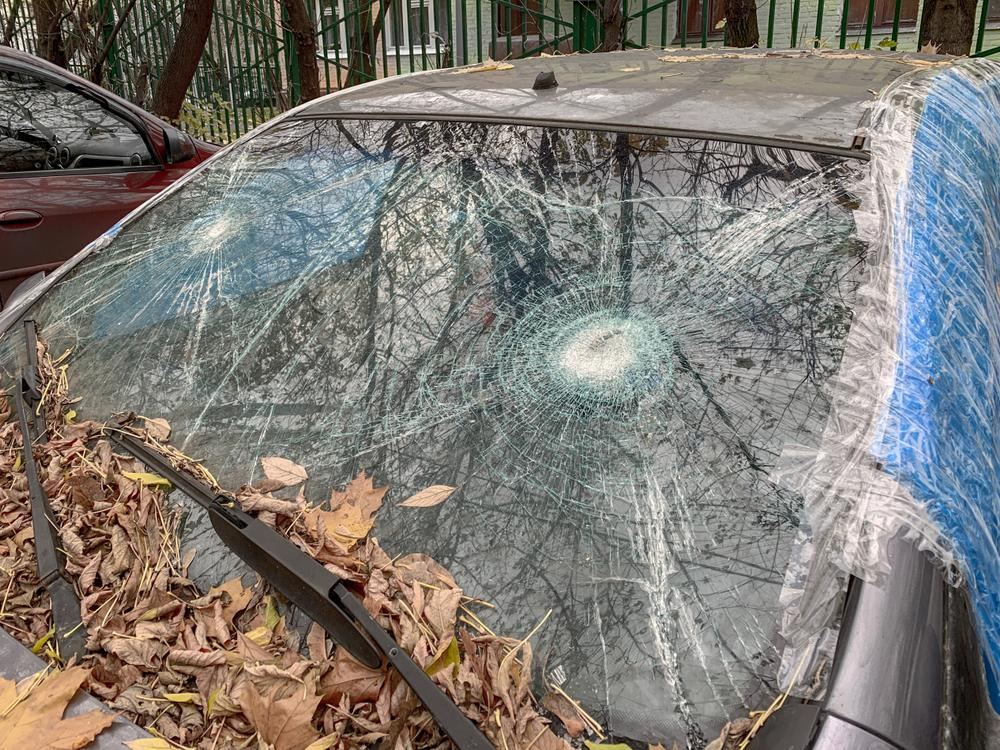glass shatter: (0, 119, 870, 750)
